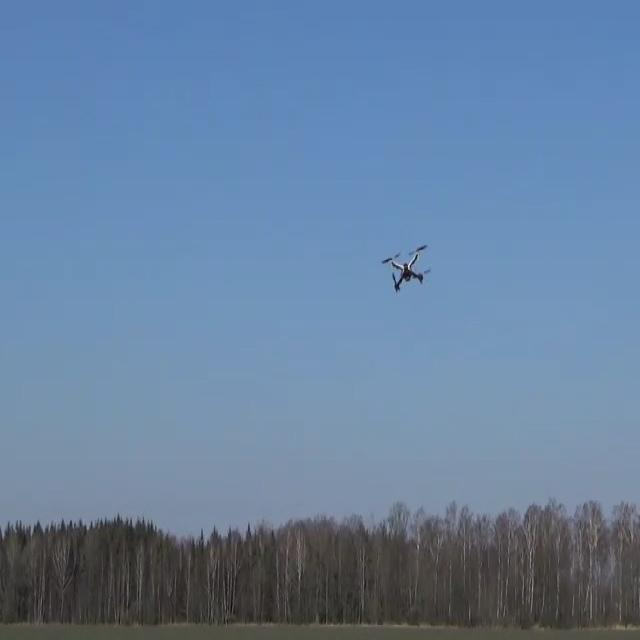drone: (381, 244, 430, 292)
